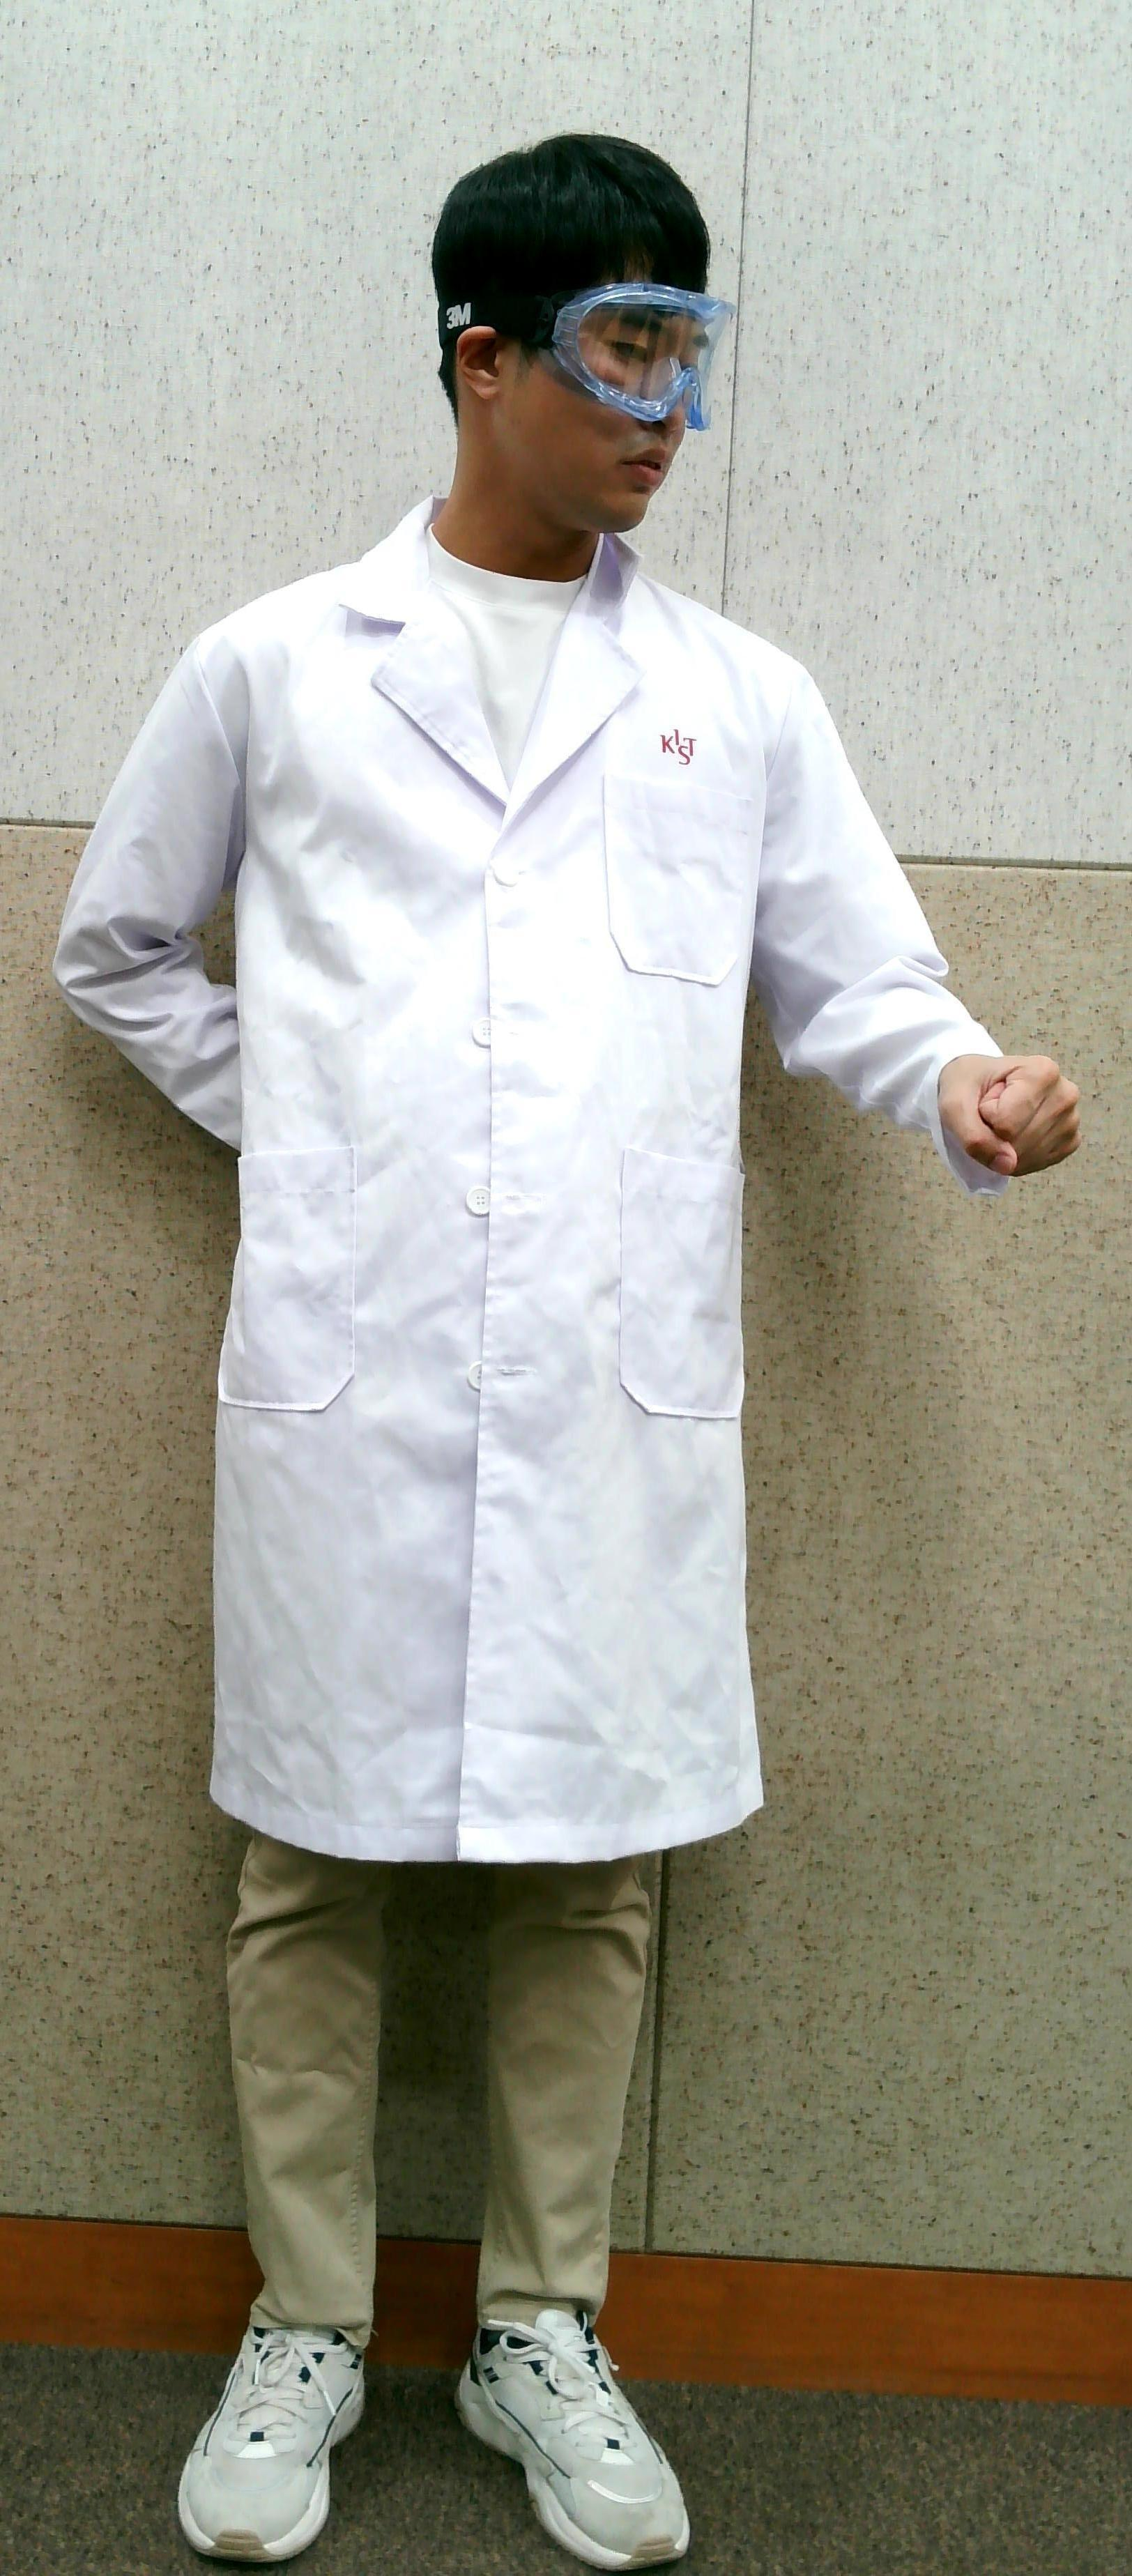lab_coat: (120, 573, 841, 1814)
